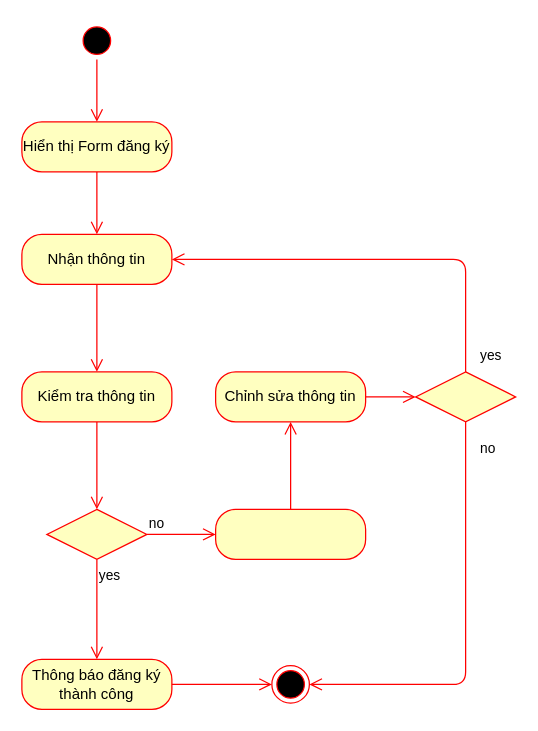
Image size: 538x731. Some labels were removed from this diagram. The box of each missing label's shape, as (x1, y1, x2, y2) in pixels:
Condition: (46, 508, 147, 559)
Thông báo đăng ký thất bại: (214, 508, 366, 559)
